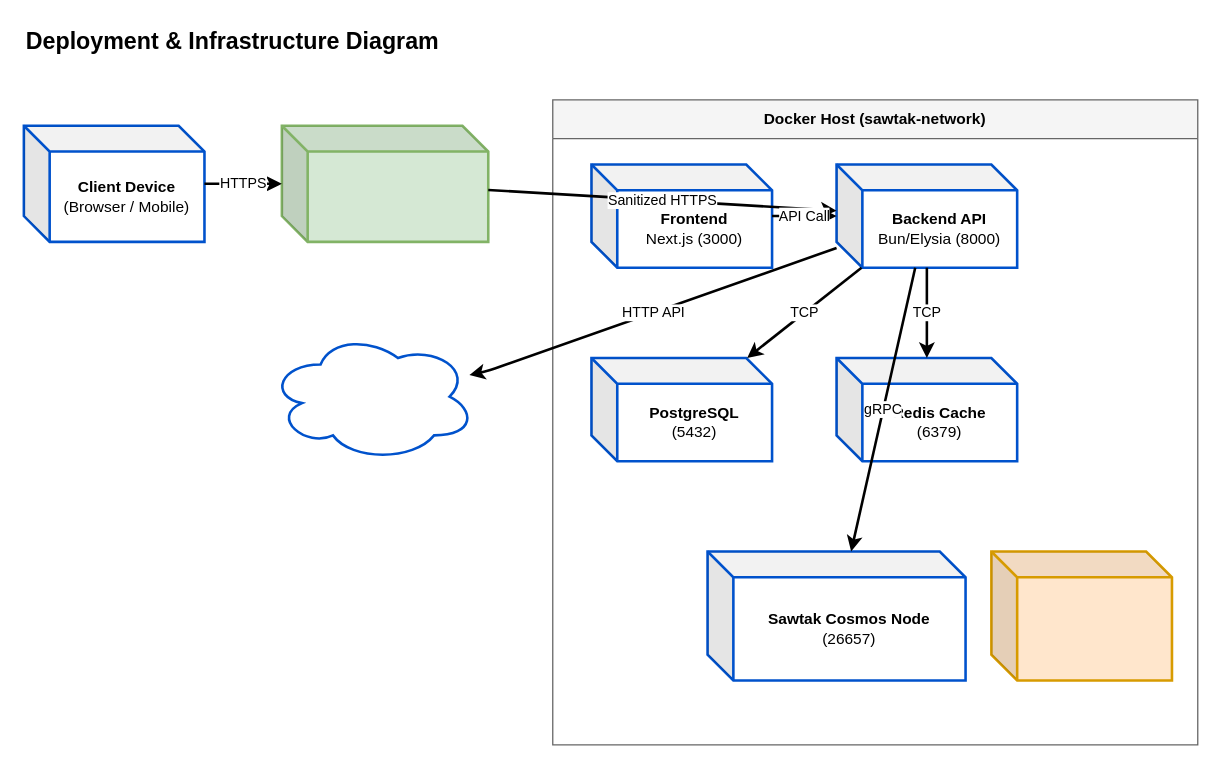
Image size: 1220x768. Some labels were removed from this diagram. Here are the shapes that lost their labels. From the top down, the box of each, then its label:
(280, 124, 489, 243): Privacy Proxy Server Port 443
(267, 330, 476, 462): IPFS Network Storage
(989, 550, 1173, 681): Monitoring (Prometheus/Grafana)
